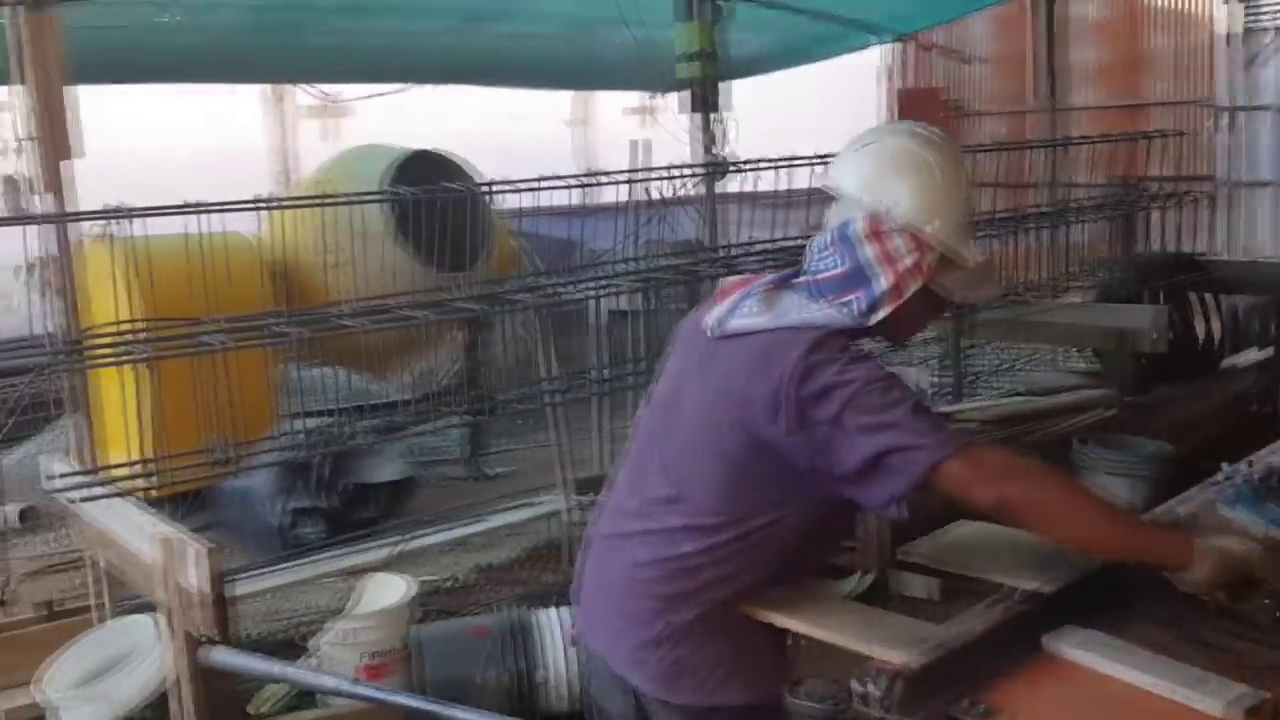helmet: (806, 124, 993, 272)
helmet-on: (783, 119, 988, 354)
person: (567, 110, 1279, 719)
